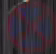No Stopping: (5, 1, 55, 51)
